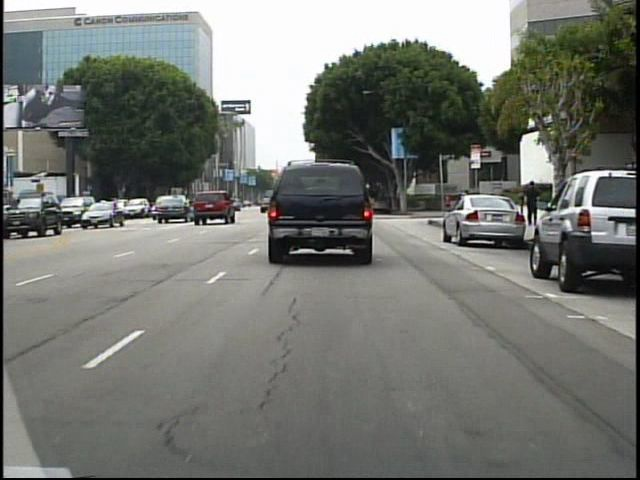person: (520, 176, 543, 230), (455, 186, 474, 227)
